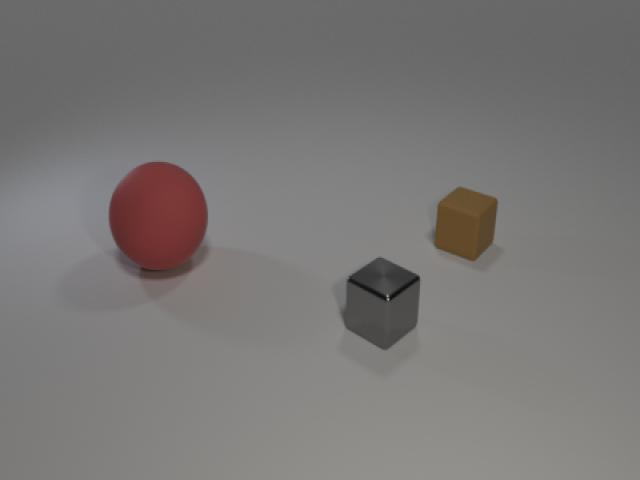round ball: (103, 151, 216, 286)
